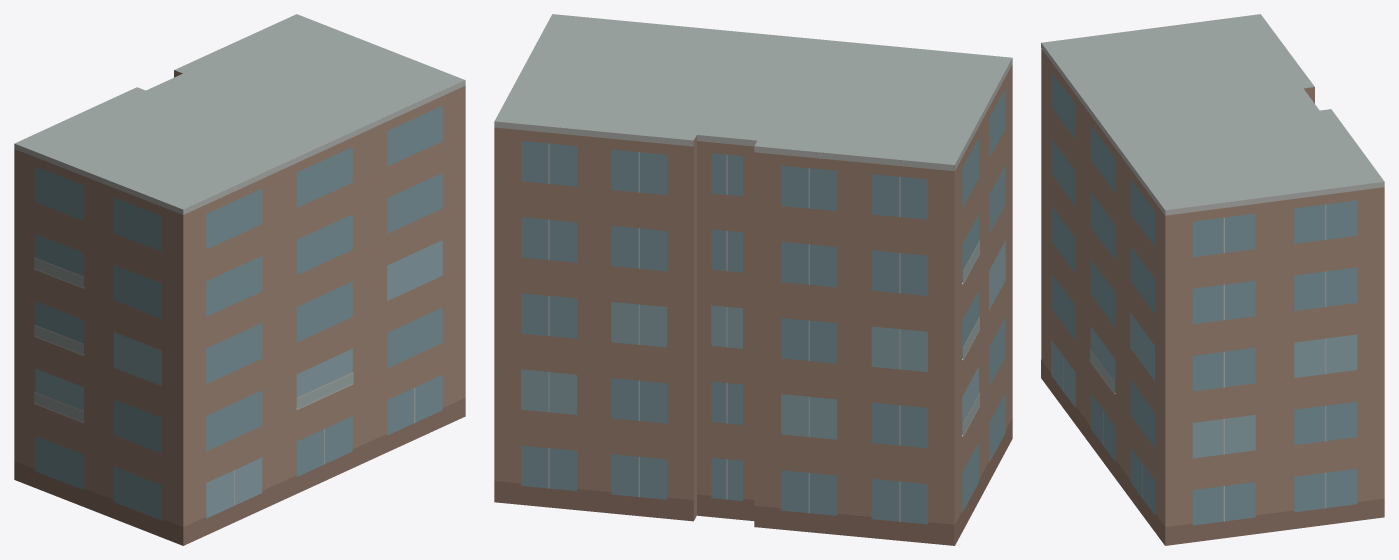
Rendered from survey-upis-32769739.glb.
The picture shows the model from 3 angles, left to right: view 1: azimuth 30°, elevation 25°; view 2: azimuth 150°, elevation 25°; view 3: azimuth 270°, elevation 25°; orthographic projection. The views are drawn at different scales.
Visible parts, largest first — view 1: survey-upis-32769739.tmp; view 2: survey-upis-32769739.tmp; view 3: survey-upis-32769739.tmp.
Boxes of the visible parts, bbox=[...] form: survey-upis-32769739.tmp: bbox=[14, 14, 465, 545]; survey-upis-32769739.tmp: bbox=[494, 14, 1012, 545]; survey-upis-32769739.tmp: bbox=[1041, 14, 1384, 545].
Bounding box in the file's own units: 19.15 × 15.25 × 14.16.
